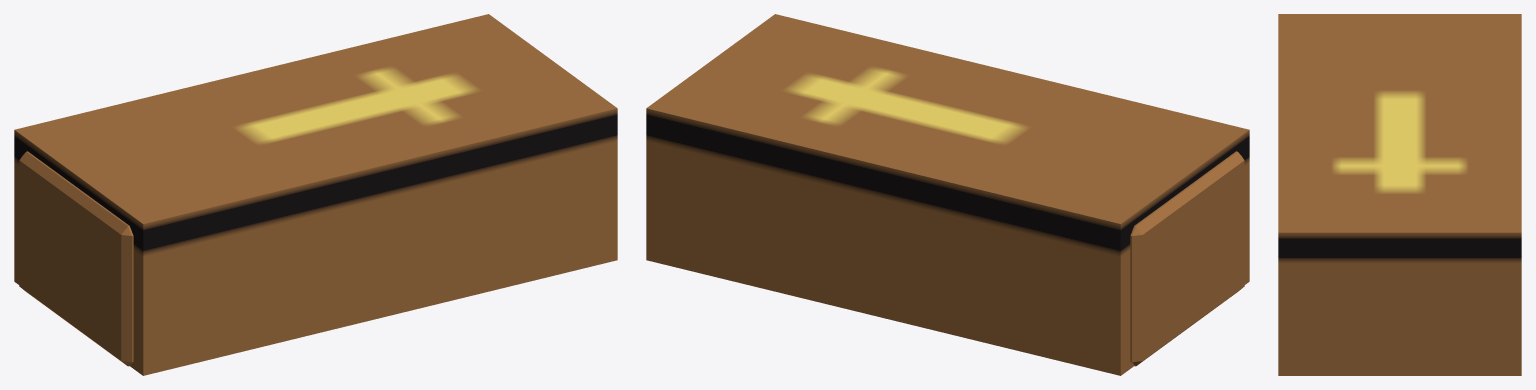
File: prop_coffin_dbf4.glb
The picture shows the model from 3 angles, left to right: view 1: azimuth 30°, elevation 25°; view 2: azimuth 150°, elevation 25°; view 3: azimuth 270°, elevation 25°; orthographic projection. The views are drawn at different scales.
Parts seen in each view (by area): view 1: prop_coffin_dbf4; view 2: prop_coffin_dbf4; view 3: prop_coffin_dbf4.
Boxes of the visible parts, x1=… form: prop_coffin_dbf4: x1=14, y1=14, x2=617, y2=375; prop_coffin_dbf4: x1=646, y1=14, x2=1249, y2=375; prop_coffin_dbf4: x1=1278, y1=14, x2=1521, y2=375.
Size of the model in its own units: 0.7647 by 0.2298 by 0.3536.
Materials: 1 (1 with a texture image).
